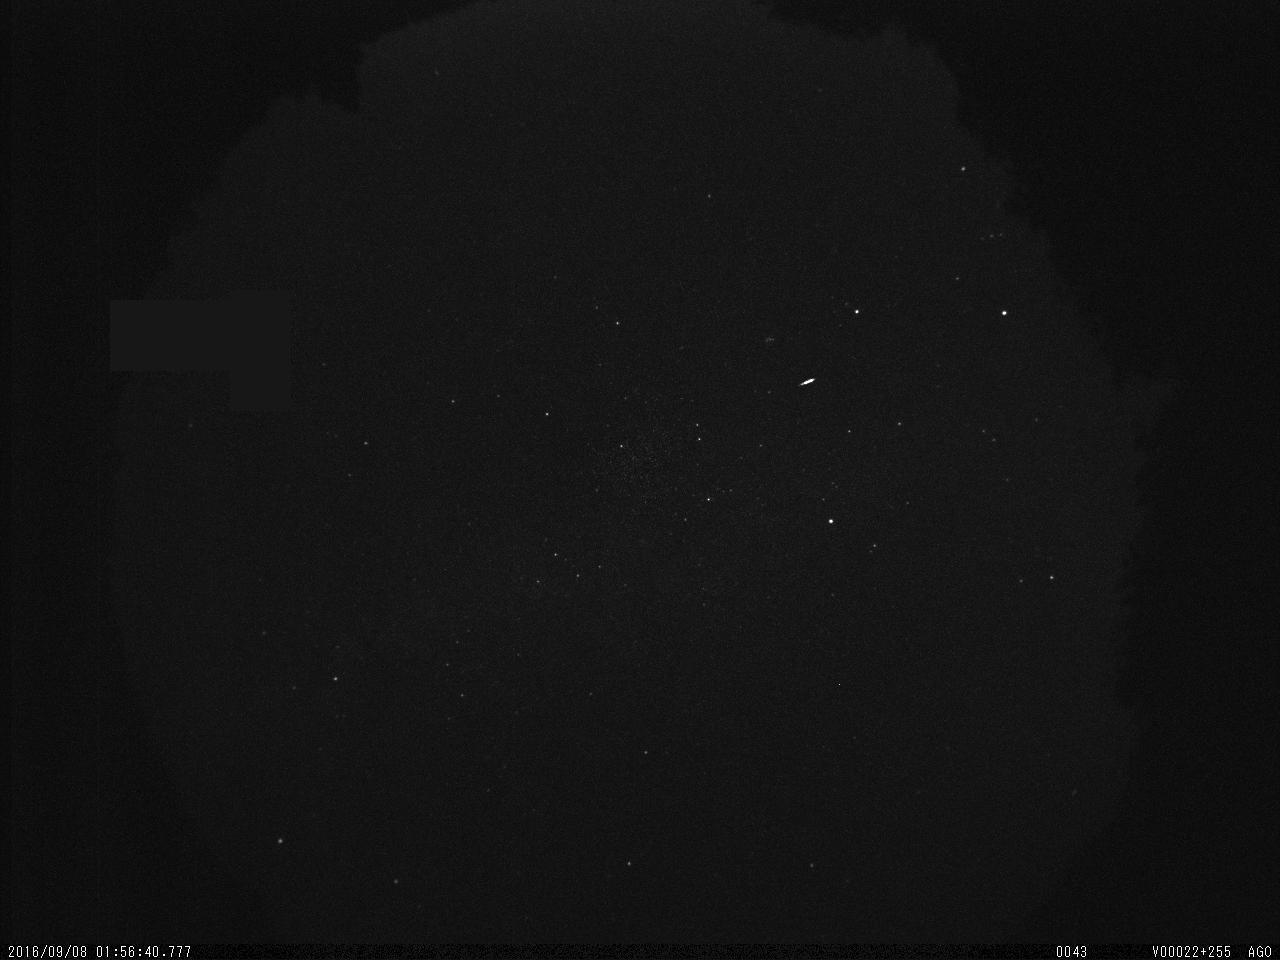meteor: (791, 374, 824, 394)
